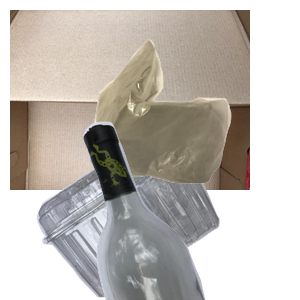cardboard: (10, 10, 250, 190)
glass: (81, 120, 300, 300)
plastic: (34, 130, 246, 300)
trash: (89, 37, 300, 213)
